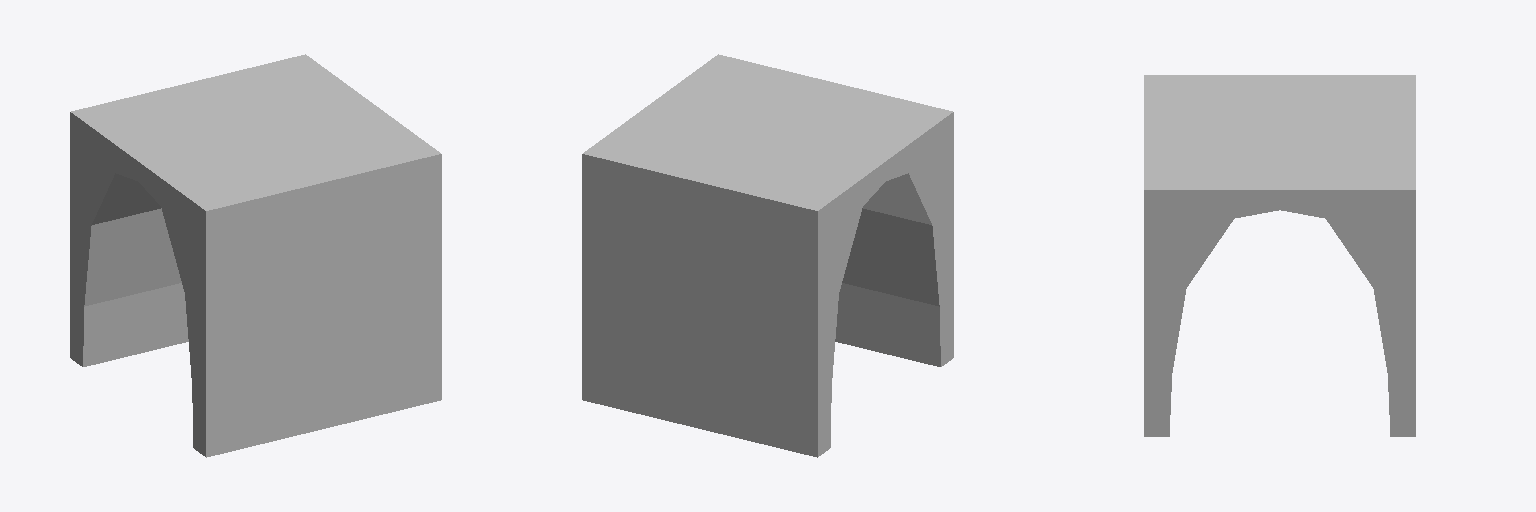
File: arch.obj
The picture shows the model from 3 angles: view 1: azimuth 30°, elevation 25°; view 2: azimuth 150°, elevation 25°; view 3: azimuth 270°, elevation 25°; orthographic projection.
Visible parts, largest first — view 1: Cube.001; view 2: Cube.001; view 3: Cube.001.
Part boxes in pixels (x1,y1,x2,y2): Cube.001: (70, 54, 441, 457); Cube.001: (582, 54, 953, 457); Cube.001: (1144, 75, 1415, 436).
Size of the model in its own units: 1 by 1 by 1.